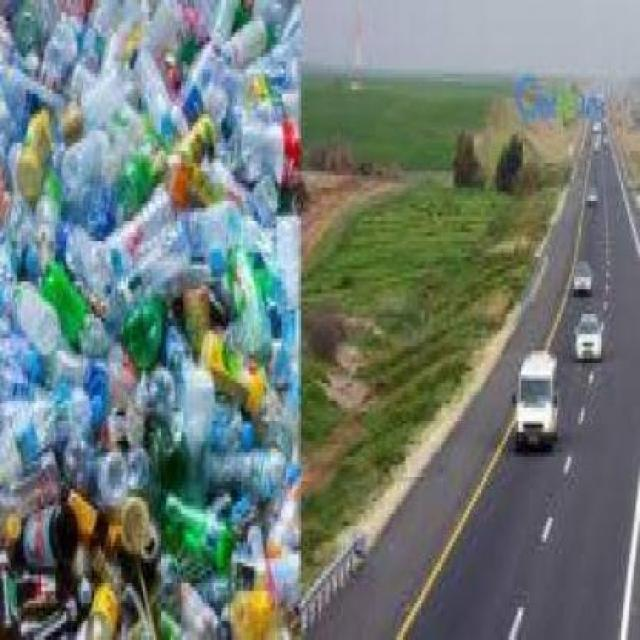garbage: (0, 0, 295, 635)
